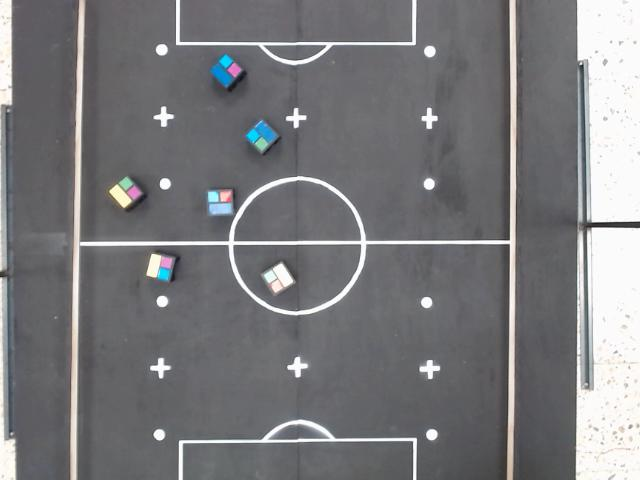robot: (257, 258, 297, 297), (106, 173, 146, 211), (242, 117, 280, 156), (207, 52, 244, 89), (143, 251, 176, 284), (204, 186, 236, 217)
